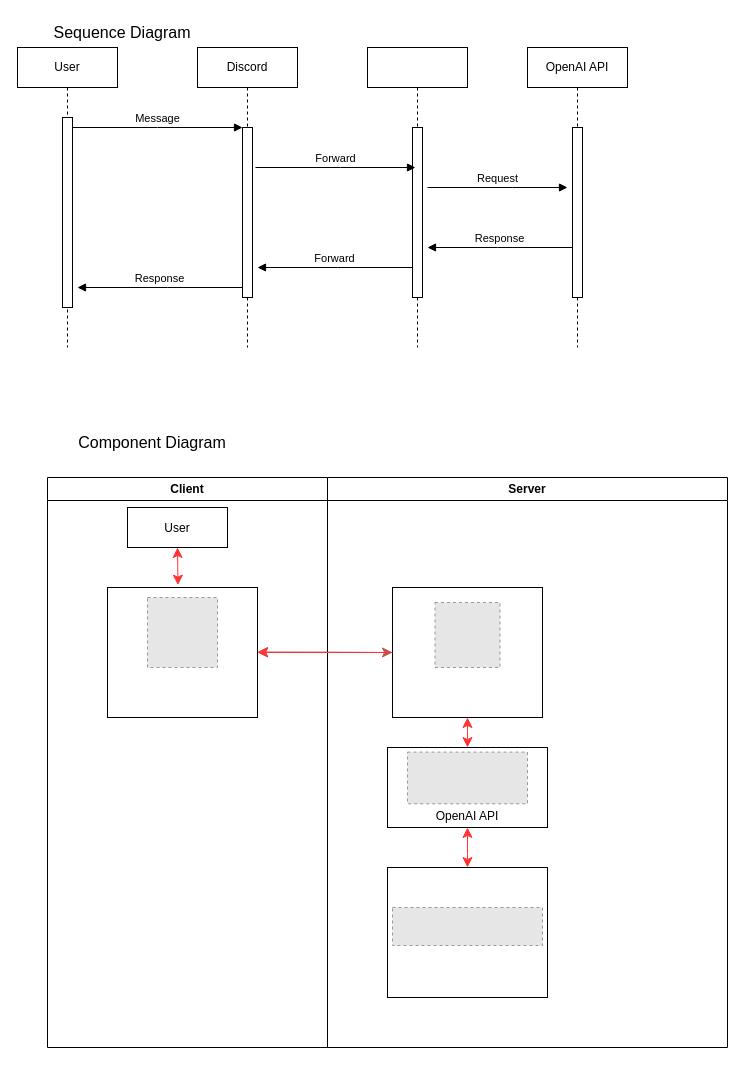
This 745x1065 diagram has some shape labels left out. Grey dashed boxes stand in for pictures. Each missing label, with the box of its shape:
DataBase: (386, 866, 548, 998)
Discord Bot: (366, 46, 468, 348)
Discord Client: (106, 586, 258, 718)
Discord Server: (392, 586, 542, 718)
